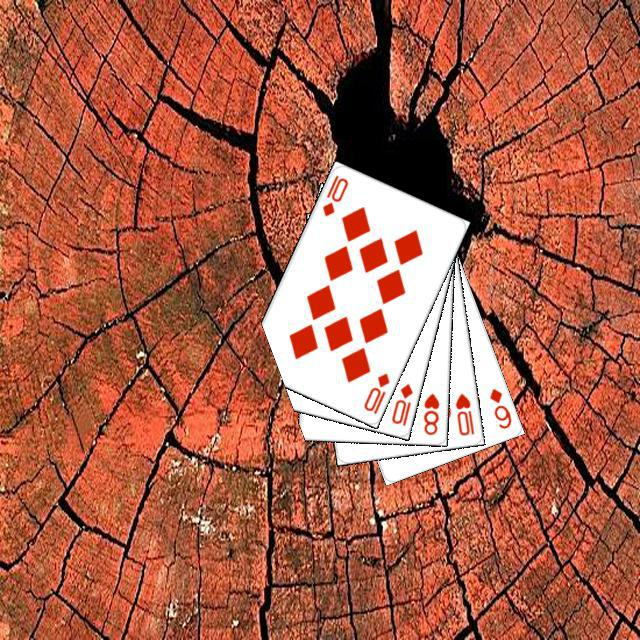10d: (317, 170, 350, 218), (359, 368, 391, 416), (386, 379, 415, 428)
10h: (450, 388, 476, 437)
6d: (484, 383, 513, 430)
8h: (418, 389, 441, 437)
